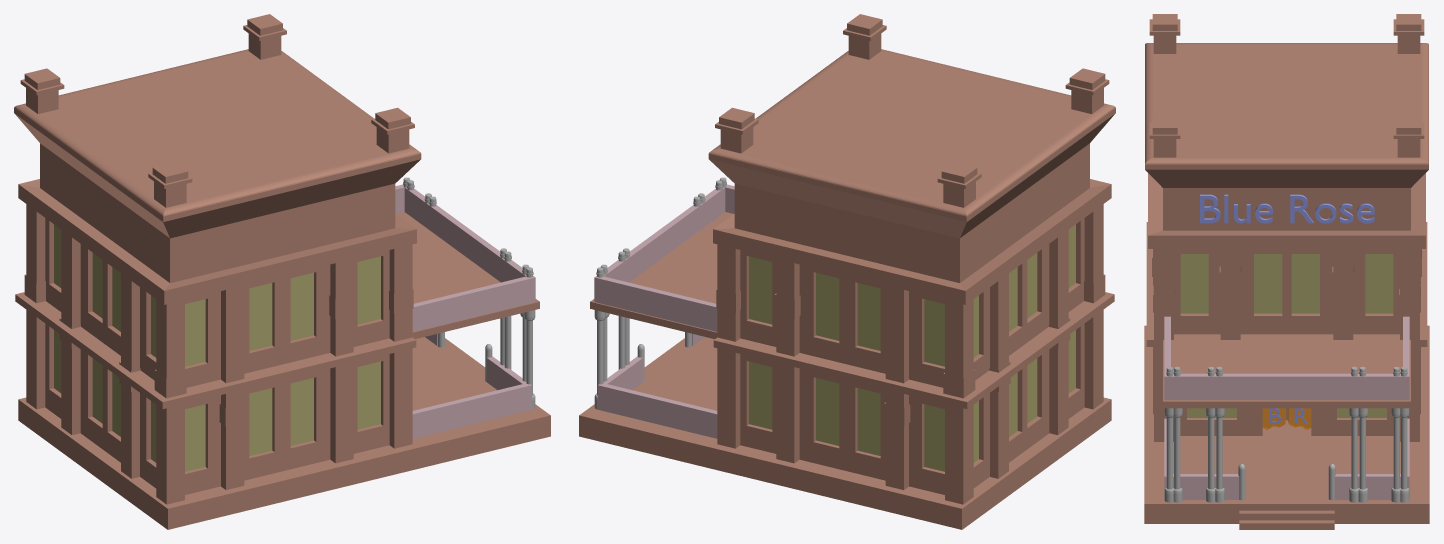
The model's file is Saloon.fbx.
The picture shows the model from 3 angles, left to right: view 1: azimuth 30°, elevation 25°; view 2: azimuth 150°, elevation 25°; view 3: azimuth 270°, elevation 25°; orthographic projection. The views are drawn at different scales.
Parts seen in each view (by area): view 1: Saloon; view 2: Saloon; view 3: Saloon.
Boxes of the visible parts, box(x1,y1,x2,y2) form: Saloon: box(14, 14, 550, 529); Saloon: box(579, 14, 1115, 529); Saloon: box(1144, 14, 1429, 529).
Size of the model in its own units: 1758 by 1466 by 1138.
